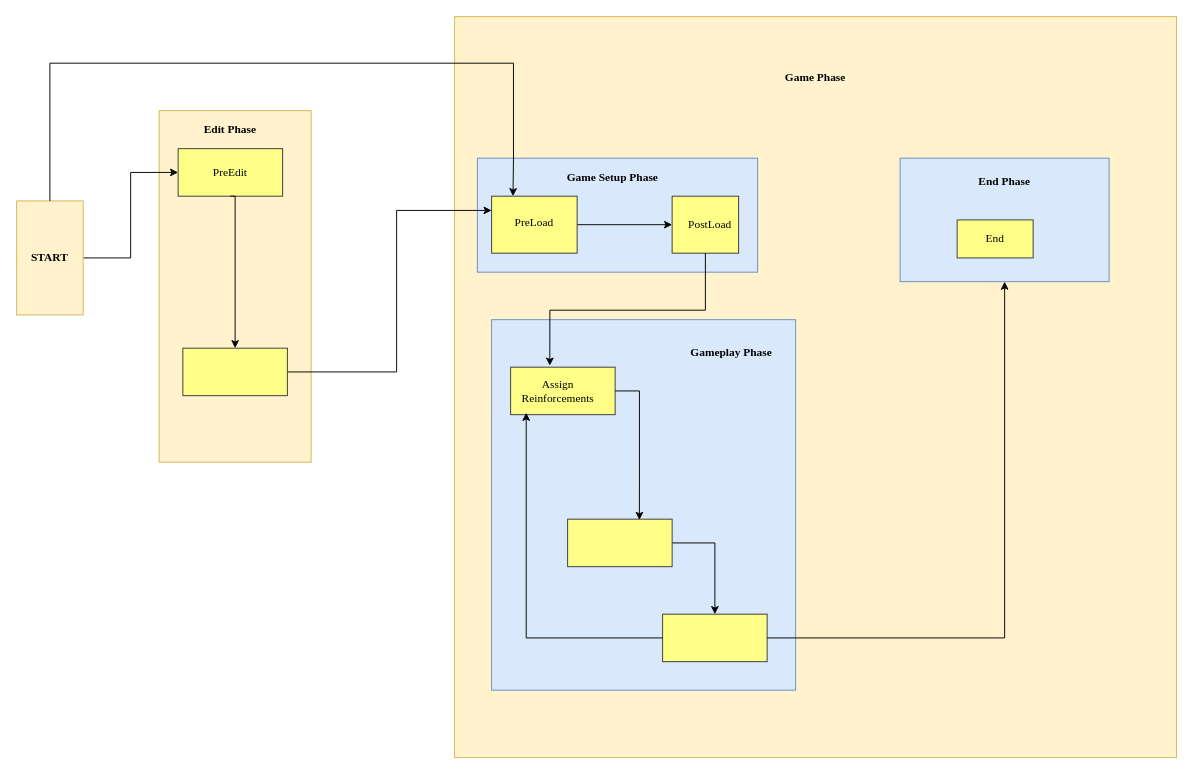
This 1193x774 diagram has some shape labels left out. The shapes that lost their labels are listed below. From the top down, each one's centre as x and y in pixels, then its label:
At [234,371]: "PostEdit".
At [619,542]: "Issue Orders".
At [714,637]: "Execute Orders".
